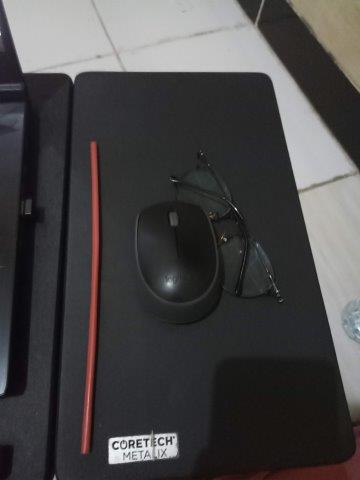sedotan: (80, 141, 99, 453)
